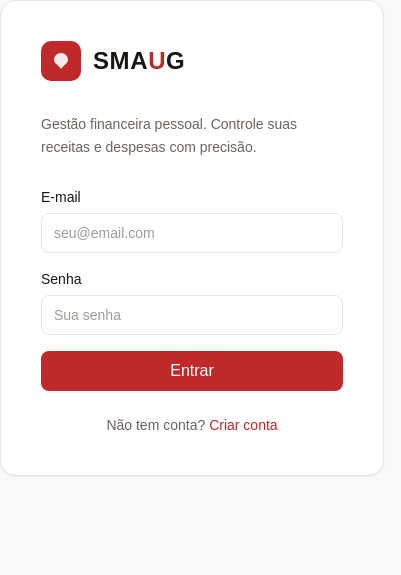
Test: página de login › no TOO_MANY_REQUESTS mostra a mensagem de limite e não abre sessão
Type "maria@example.com" into the field labelled "E-mail". click: (192, 232)
box: [41,212,343,252]
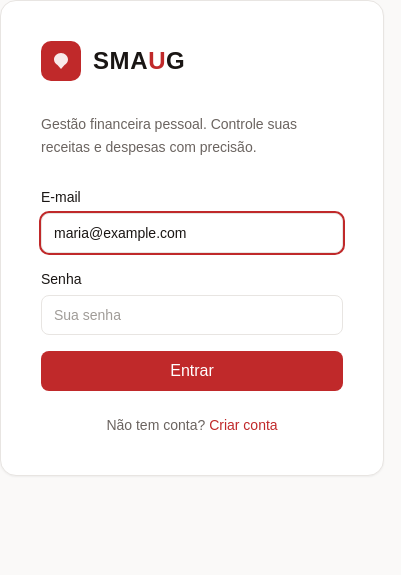
Type "senha muito segura" into the password field labelled "Senha". click: (192, 314)
box: [41,294,343,334]
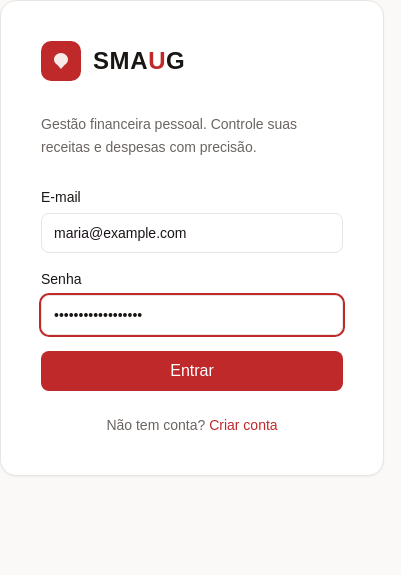
Click the button "Entrar". click: (192, 370)
box: [41,350,343,390]
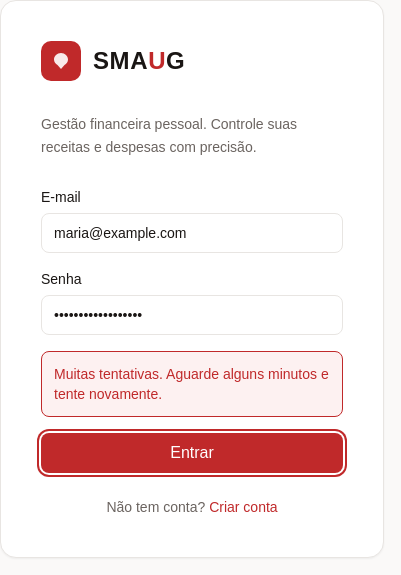
Now the text "Muitas tentativas. Aguarde alguns minutos e tente novamente." is shown, box [41,350,343,416]
